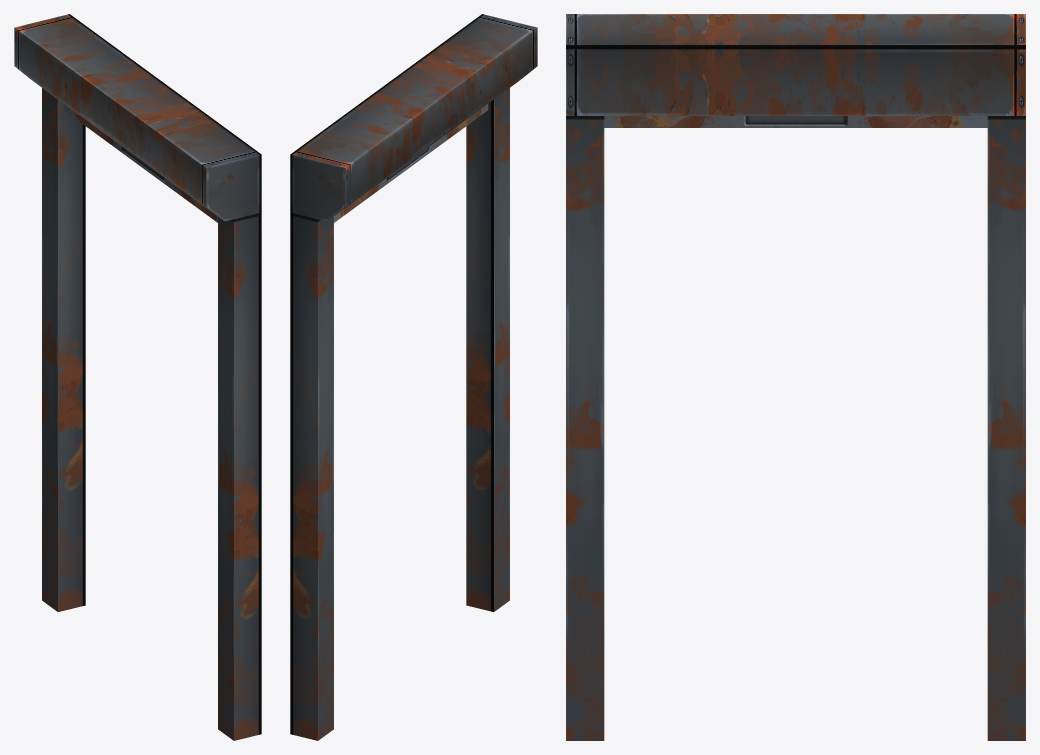
File: rollerShutter05_2m.fbx
The picture shows the model from 3 angles, left to right: view 1: azimuth 30°, elevation 25°; view 2: azimuth 150°, elevation 25°; view 3: azimuth 270°, elevation 25°; orthographic projection. The views are drawn at different scales.
Visible parts, largest first — view 1: rollerShutter05_2m; view 2: rollerShutter05_2m; view 3: rollerShutter05_2m.
Boxes of the visible parts, x1,y1,x2,y2 form: rollerShutter05_2m: [14, 14, 261, 740]; rollerShutter05_2m: [290, 14, 537, 740]; rollerShutter05_2m: [566, 14, 1025, 740].
Size of the model in its own units: 30 by 300 by 180.
